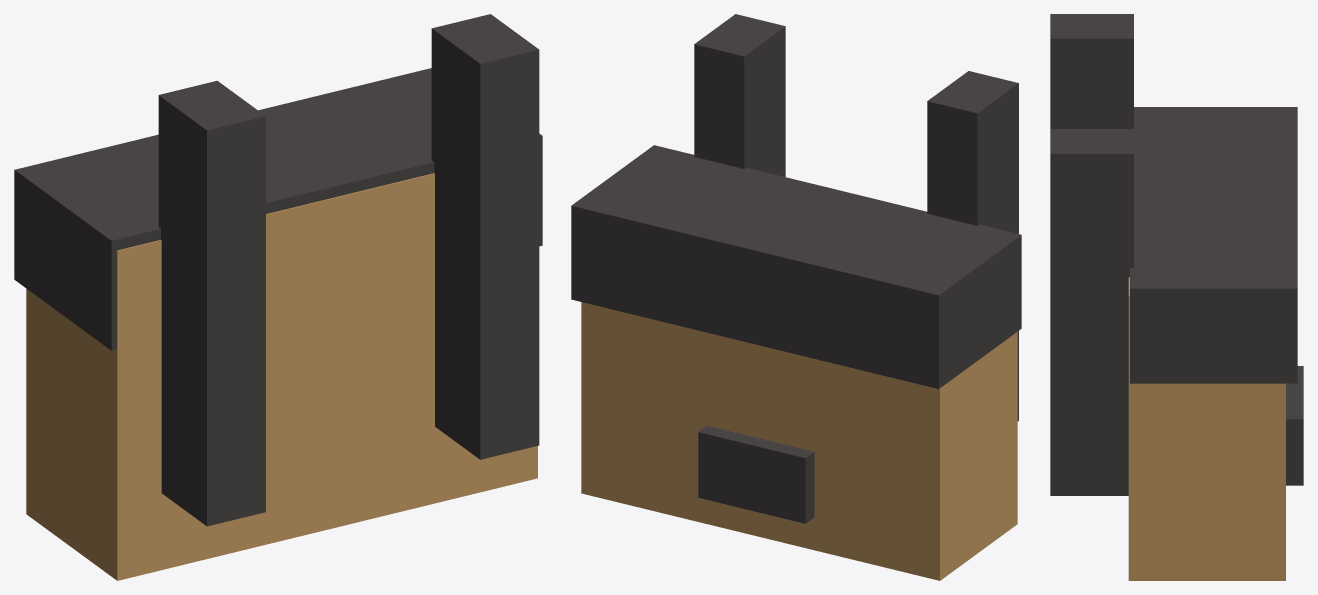
File: back-satchel.glb
3 views of the same model, side by side, from view 1: azimuth 30°, elevation 25°; view 2: azimuth 150°, elevation 25°; view 3: azimuth 270°, elevation 25° (orthographic). The views are drawn at different scales.
Parts seen in each view (by area): view 1: satchel_body, satchel_strap_1, satchel_strap_-1, satchel_flap; view 2: satchel_body, satchel_flap, satchel_strap_-1, satchel_strap_1, satchel_clasp; view 3: satchel_flap, satchel_body, satchel_strap_1, satchel_strap_-1, satchel_clasp.
Part boxes in pixels (x1,y1,x2,y2): satchel_body: (26, 173, 537, 580); satchel_strap_1: (431, 14, 539, 459); satchel_strap_-1: (158, 80, 265, 526); satchel_flap: (14, 68, 542, 350); satchel_body: (581, 302, 1017, 580); satchel_flap: (571, 145, 1021, 388); satchel_strap_-1: (927, 71, 1018, 421); satchel_strap_1: (694, 14, 785, 176); satchel_clasp: (698, 425, 814, 523); satchel_flap: (1130, 107, 1297, 383); satchel_body: (1128, 277, 1285, 580); satchel_strap_1: (1050, 129, 1133, 495); satchel_strap_-1: (1050, 14, 1133, 128); satchel_clasp: (1286, 366, 1303, 485).
Bounding box in the file's own units: 0.205 × 0.215 × 0.121.
